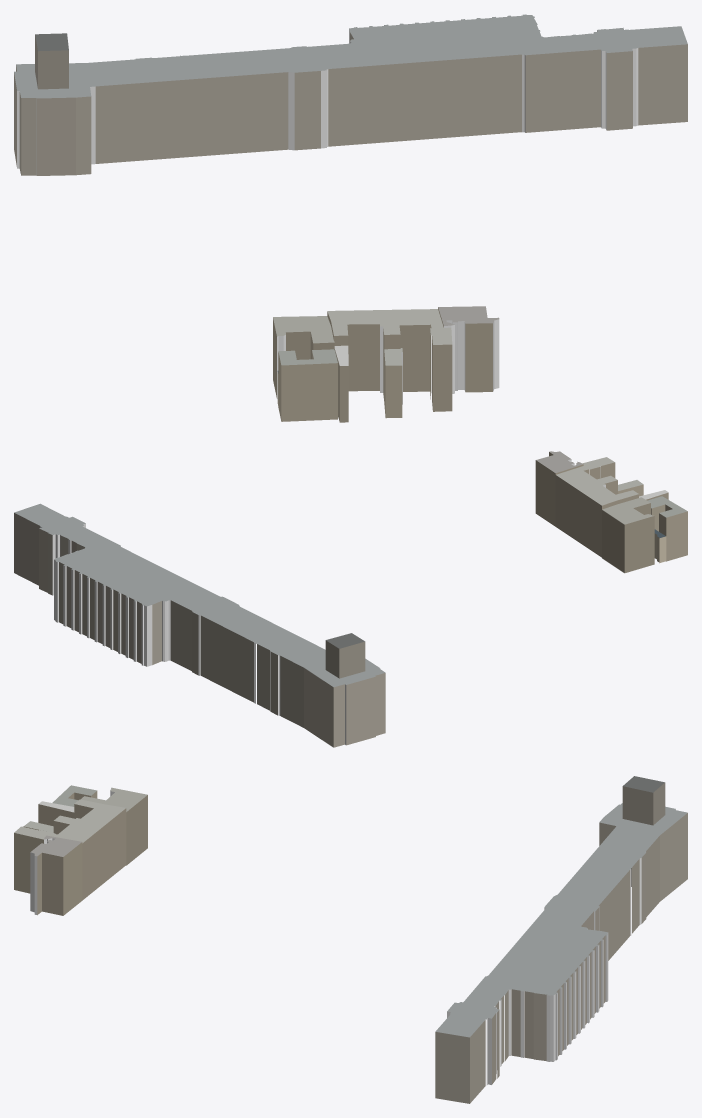
3 renders of one model, top to bottom at view 1: azimuth 30°, elevation 25°; view 2: azimuth 150°, elevation 25°; view 3: azimuth 270°, elevation 25°, orthographic. The views are drawn at different scales.
Parts seen in each view (by area): view 1: tuile; view 2: tuile; view 3: tuile.
Part boxes in pixels (<box>): tuile: <box>14,14,687,422</box>; tuile: <box>14,451,687,747</box>; tuile: <box>14,776,687,1103</box>.
Bounding box in the file's own units: 259 × 45.28 × 279.
